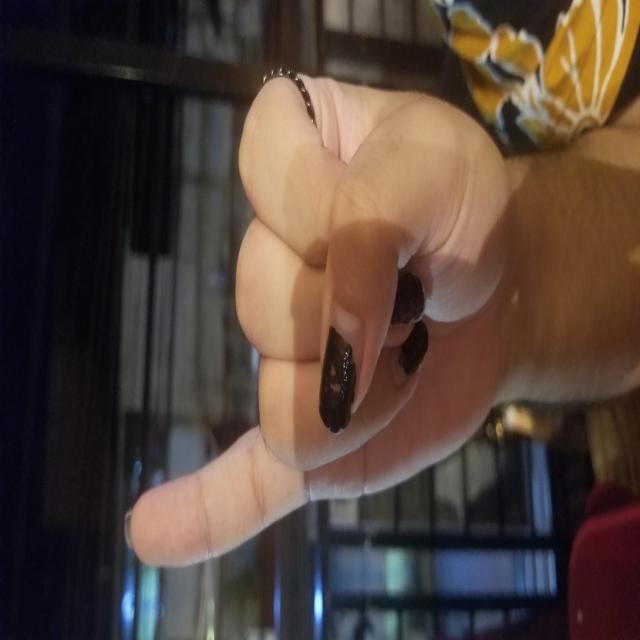I: (59, 126, 570, 516)
